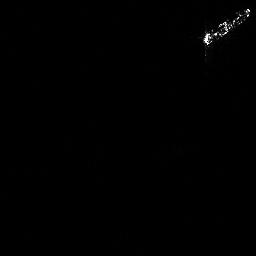ship: (198, 5, 253, 50)
